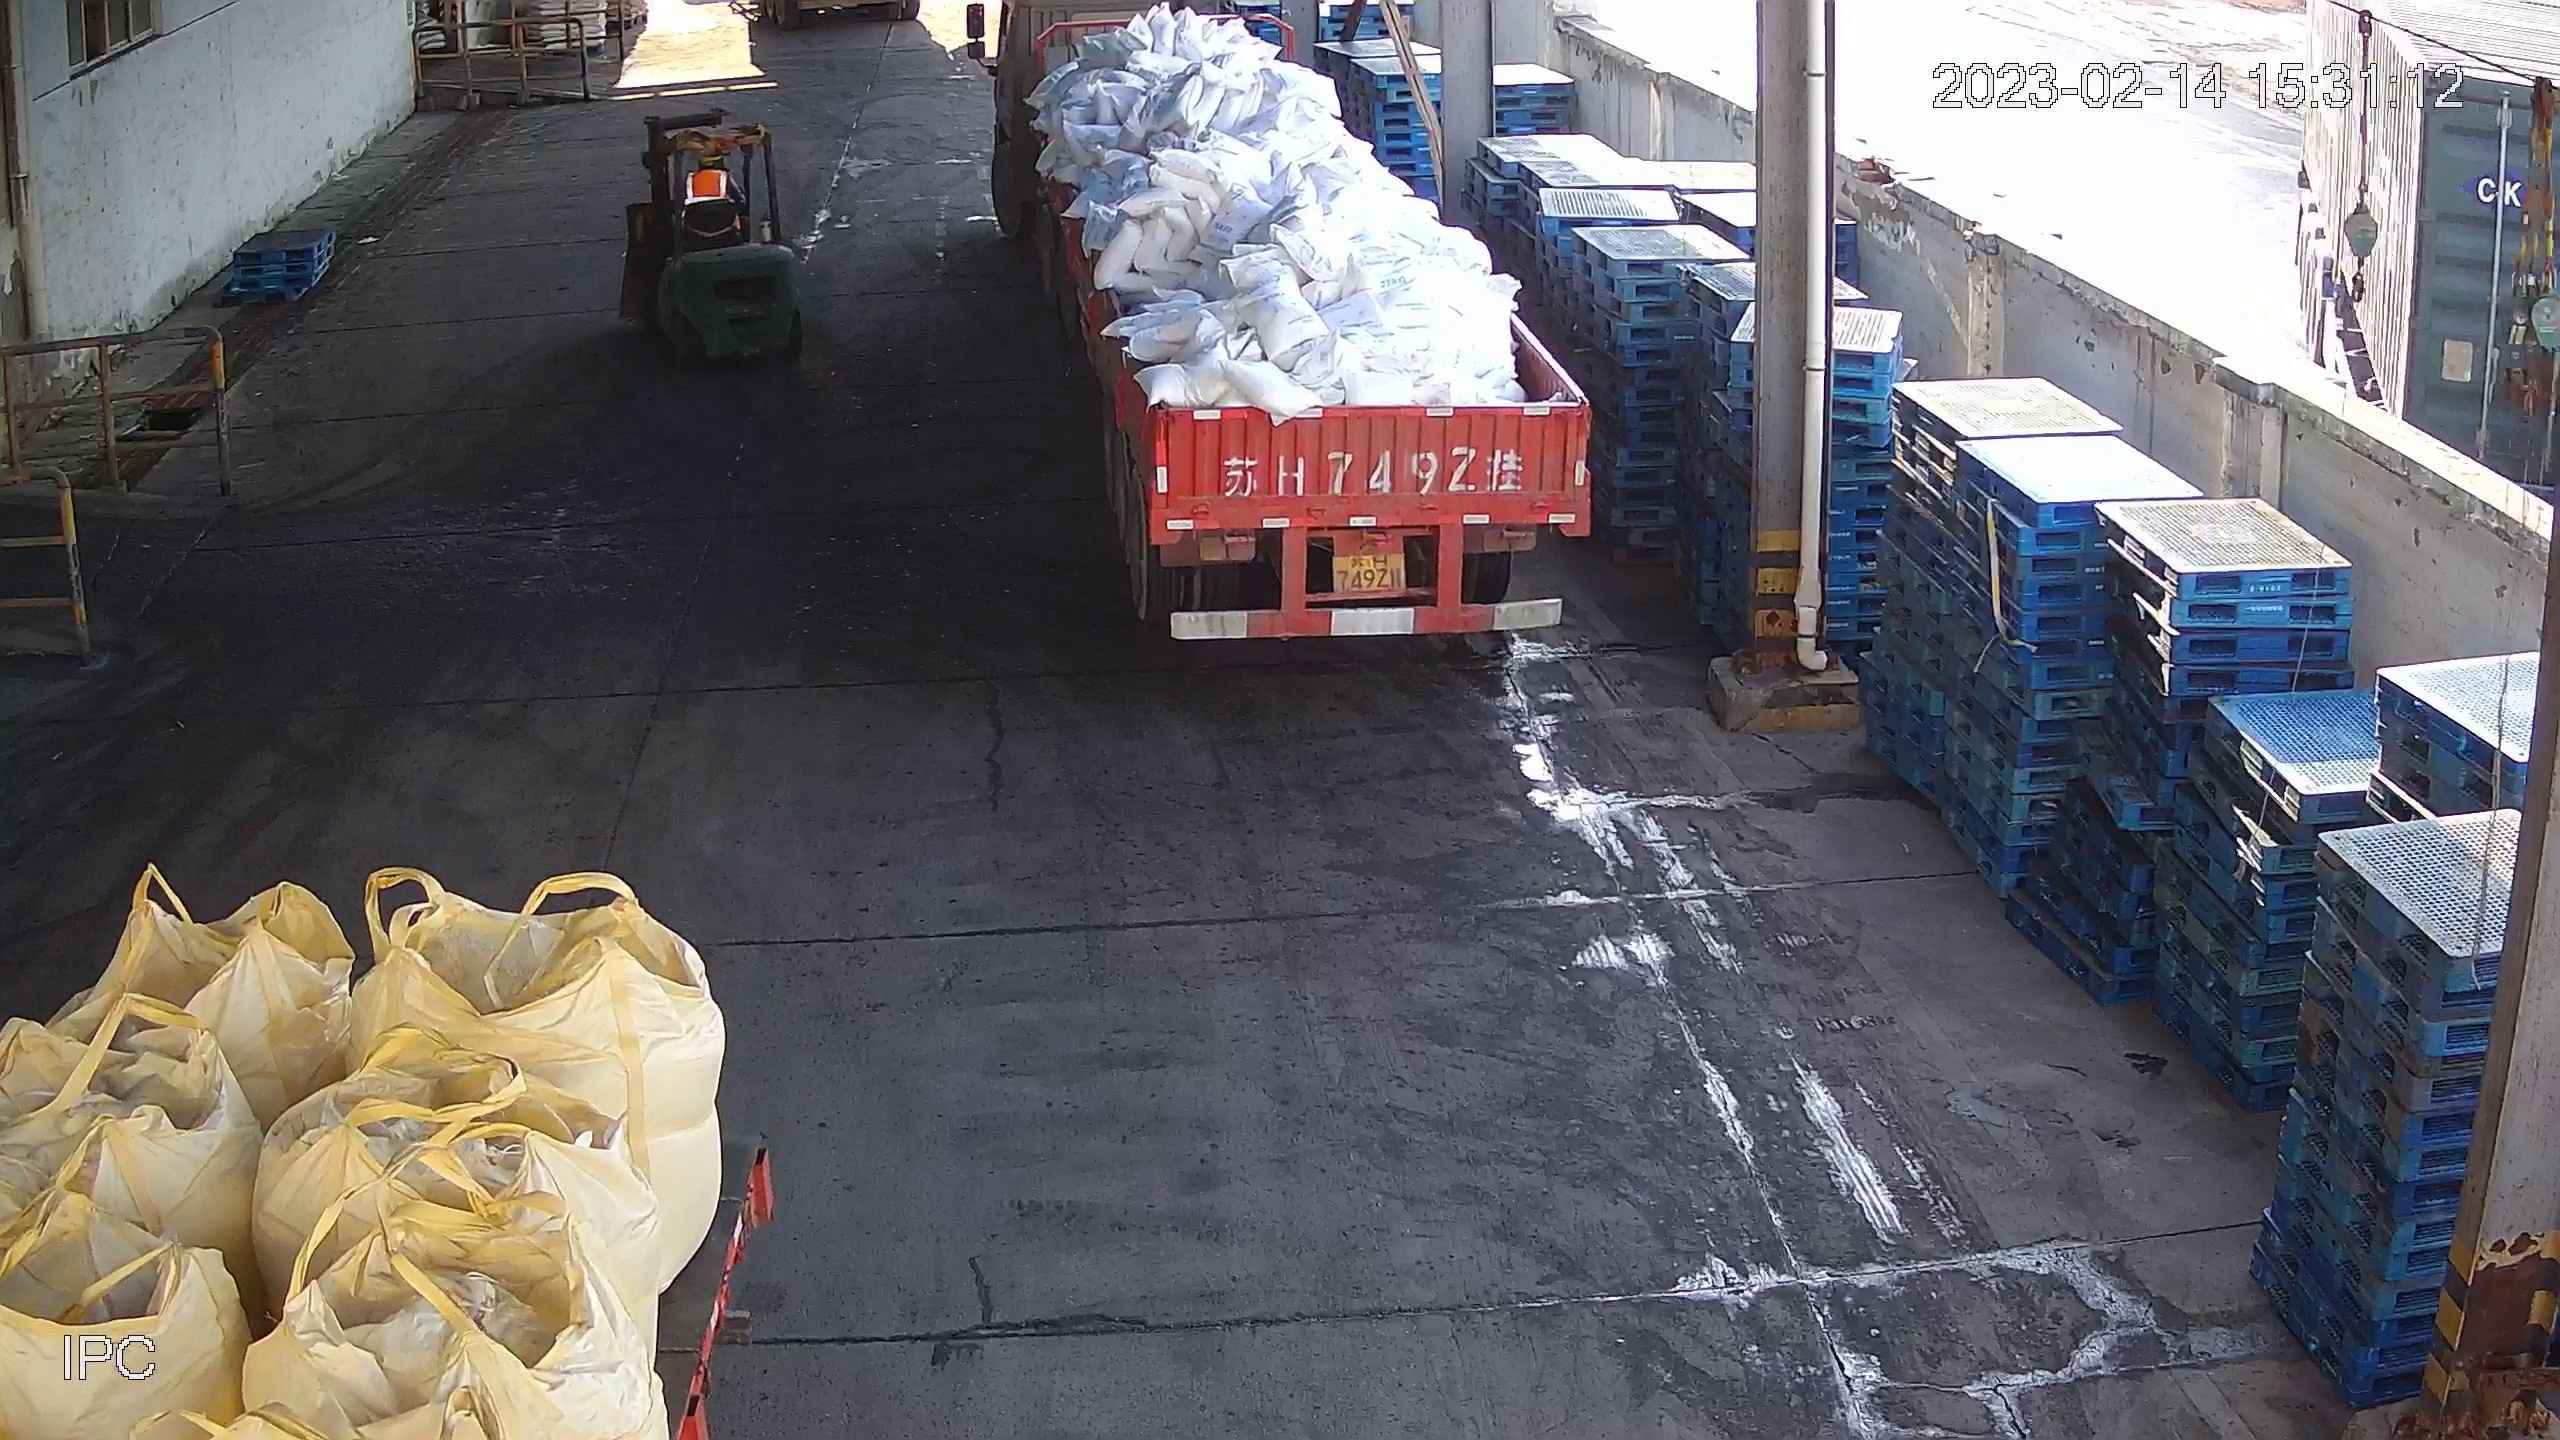truck: (960, 2, 1598, 640)
